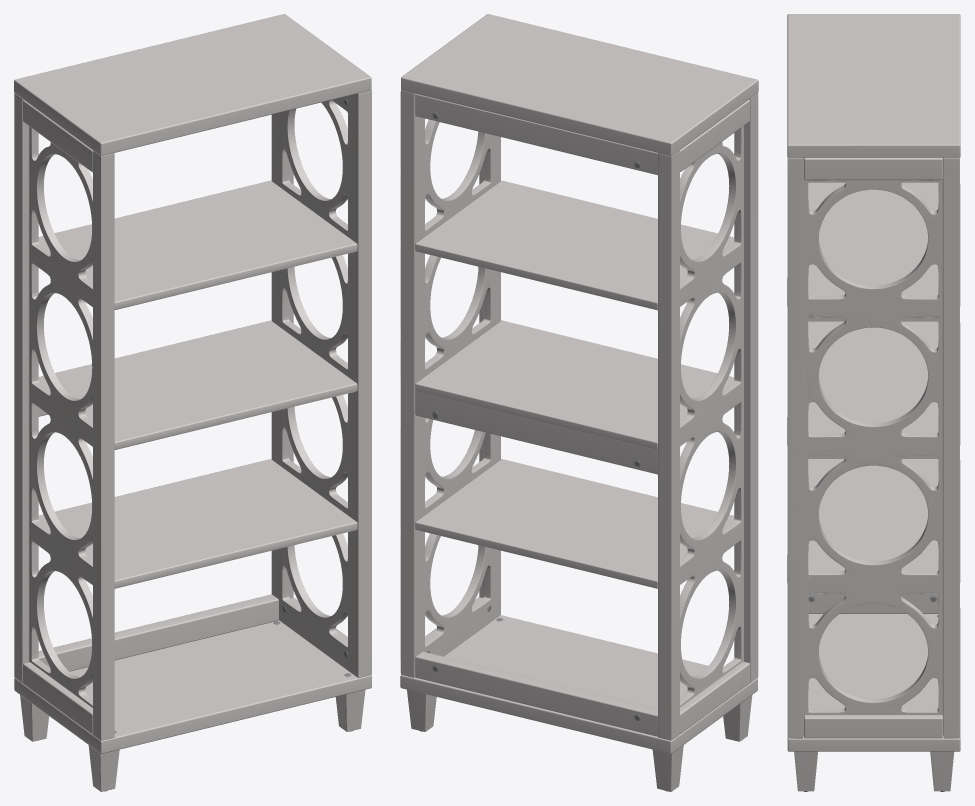
The model's file is abo-B07QF9Y9D1.glb.
The picture shows the model from 3 angles, left to right: view 1: azimuth 30°, elevation 25°; view 2: azimuth 150°, elevation 25°; view 3: azimuth 270°, elevation 25°; orthographic projection.
Bounding box in the file's own units: 0.611 × 1.41 × 0.34.
1 material, 1 textured.
